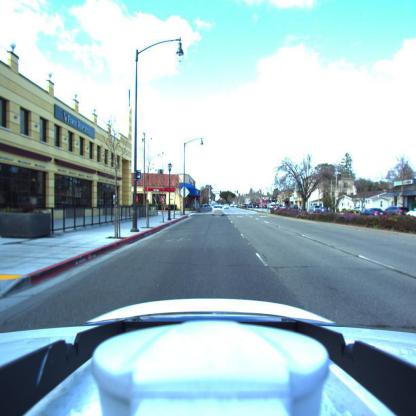car: (384, 206, 408, 215), (362, 207, 385, 215), (212, 204, 226, 216), (199, 204, 212, 212)
